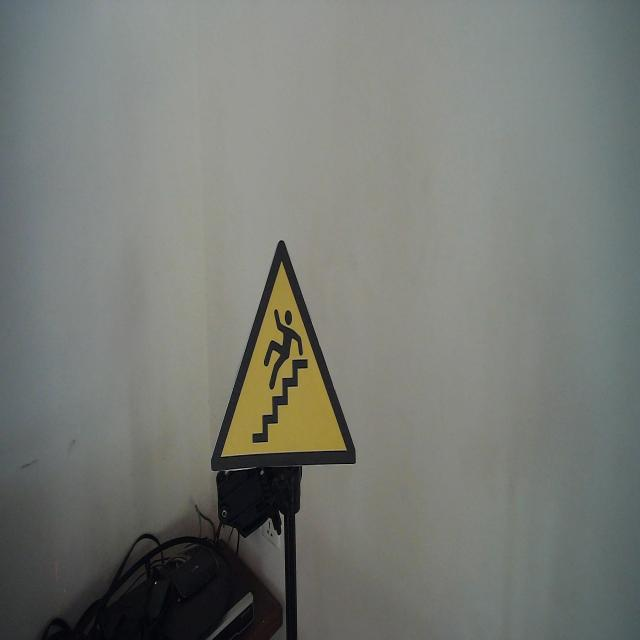stairs: (210, 238, 358, 472)
